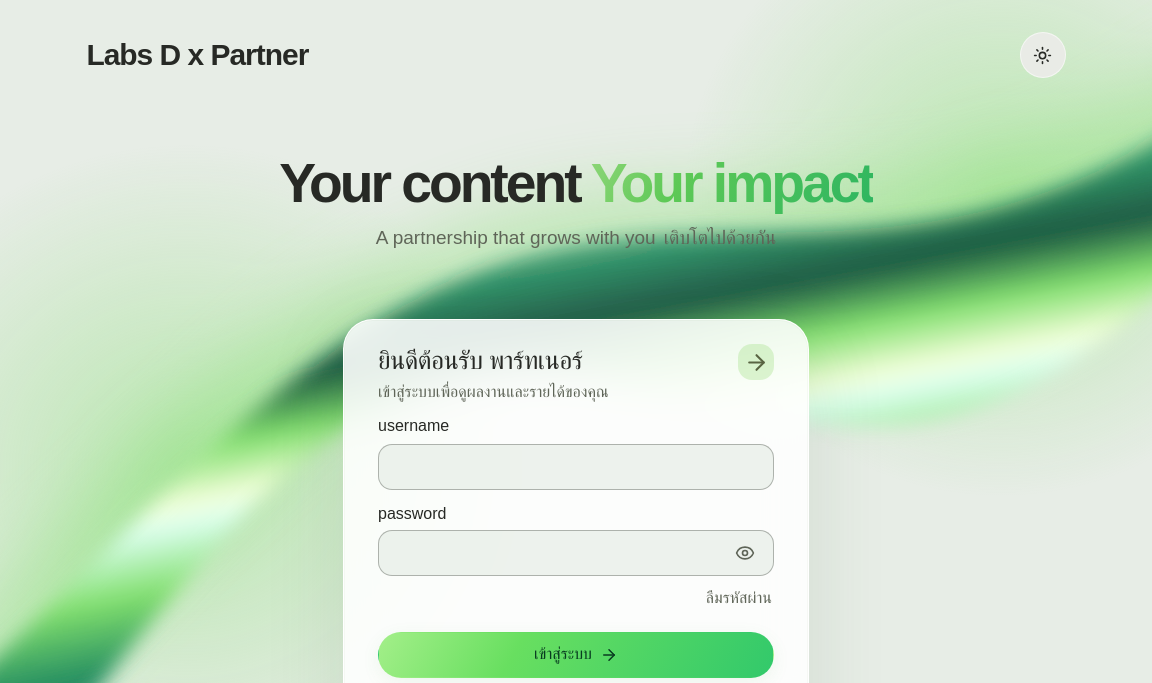
Scenario: login fluid presentation › uses the actual login controls without the removed support paragraph or preview copy
The width and height of the screenshot is (1152, 683).
Click the button "ลืมรหัสผ่าน" at (739, 598), box [704,576,774,620]
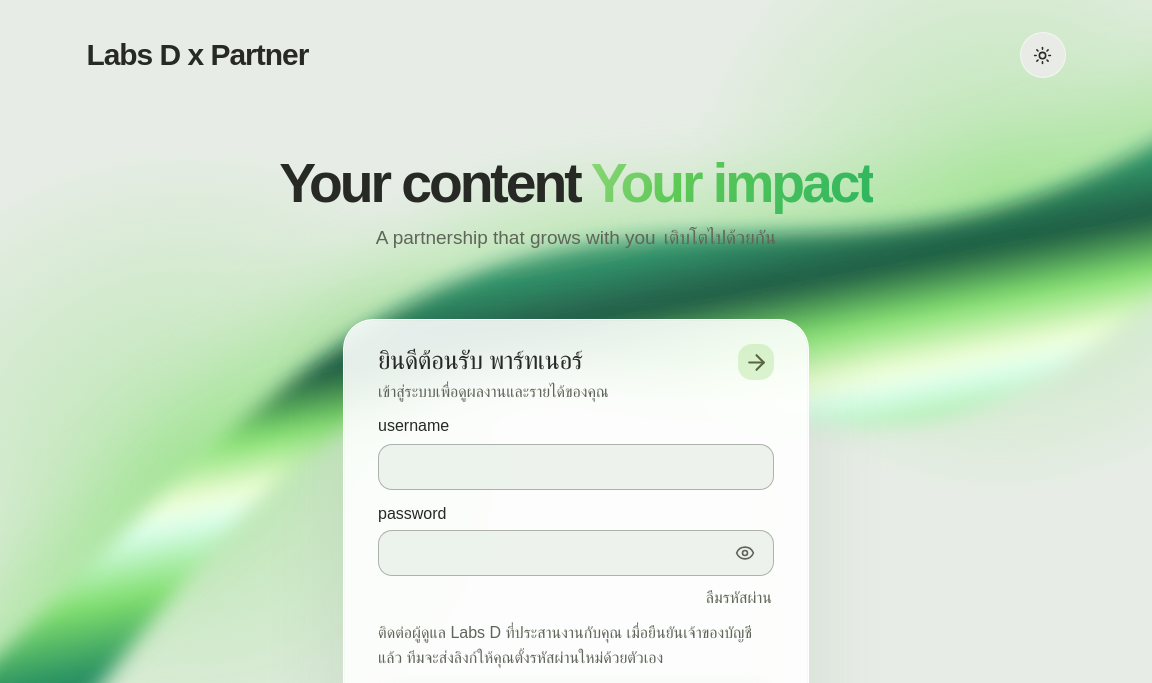
Expected: the text "ยืนยันเจ้าของบัญชี" is shown, [378,624,752,666]
